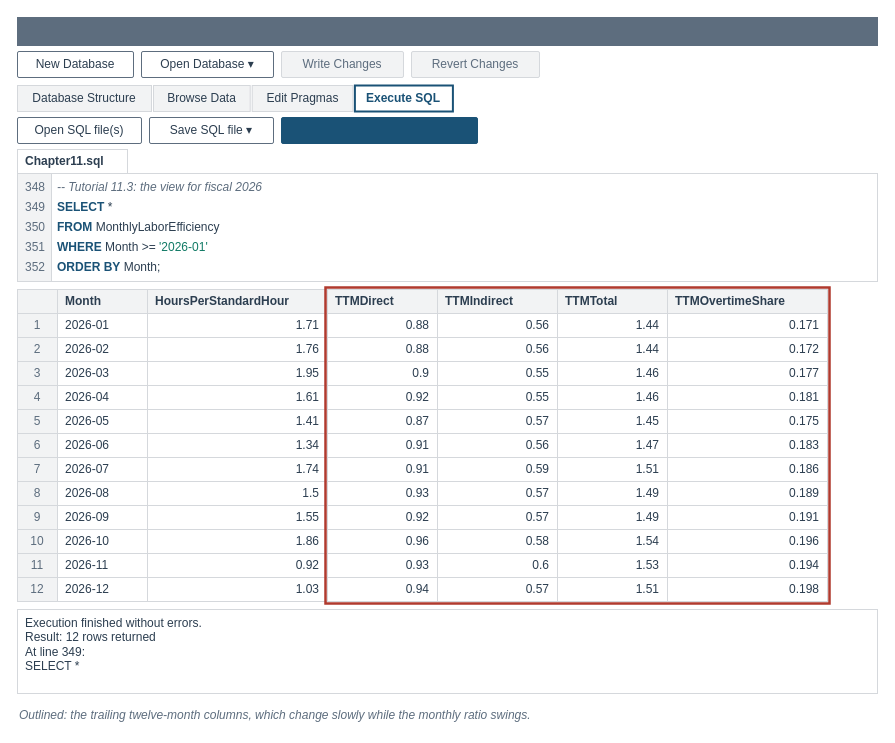
This 895x743 diagram has some shape labels left out. Each missing label, with the centre of its shape:
DB Browser for SQLite - C:\Users\you\Documents\CharlesRiver_Work.sqlite: the point at 447,31
▶ Execute all/selected SQL: the point at 379,130
